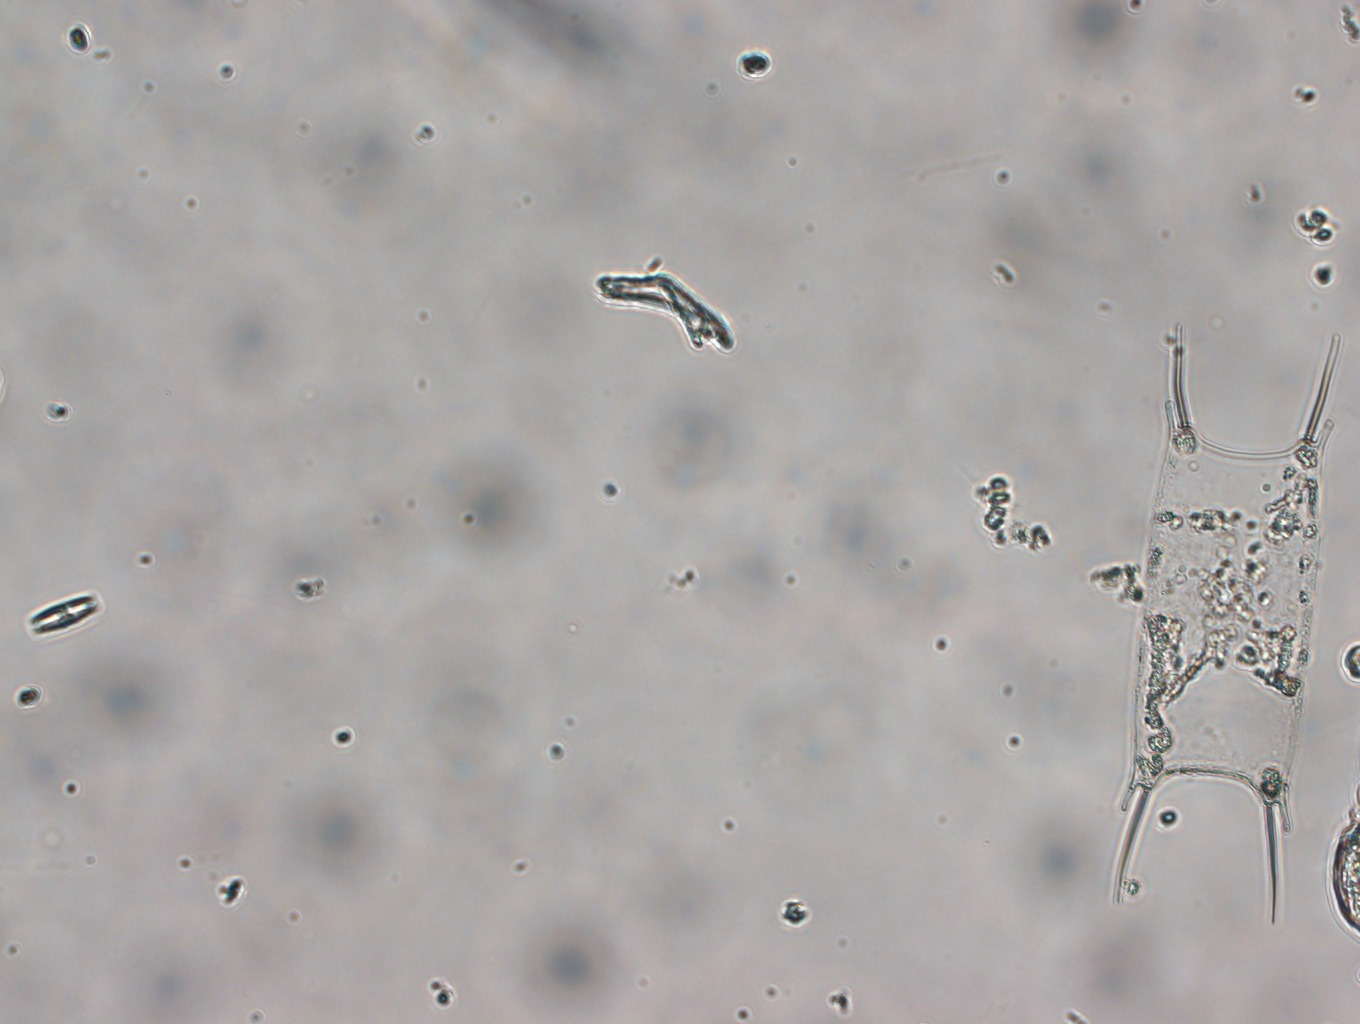biddulphia: (1098, 316, 1342, 927)
